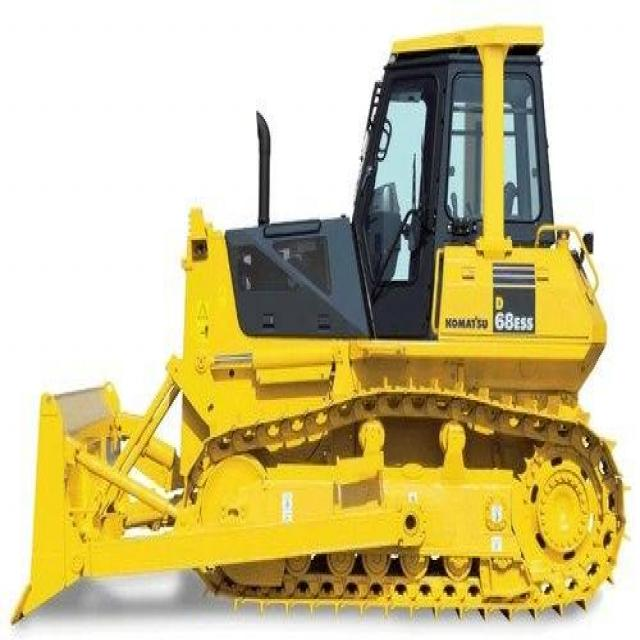Bulldozer: (5, 10, 627, 634)
